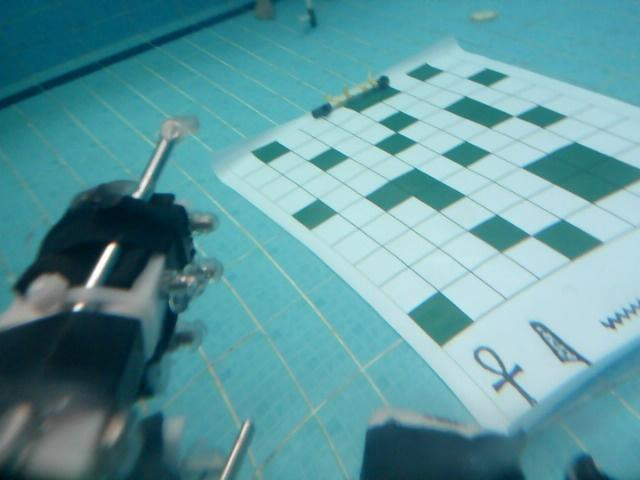Ankh: (469, 345, 542, 411)
Reed: (525, 320, 596, 373)
Water: (600, 297, 640, 332)
